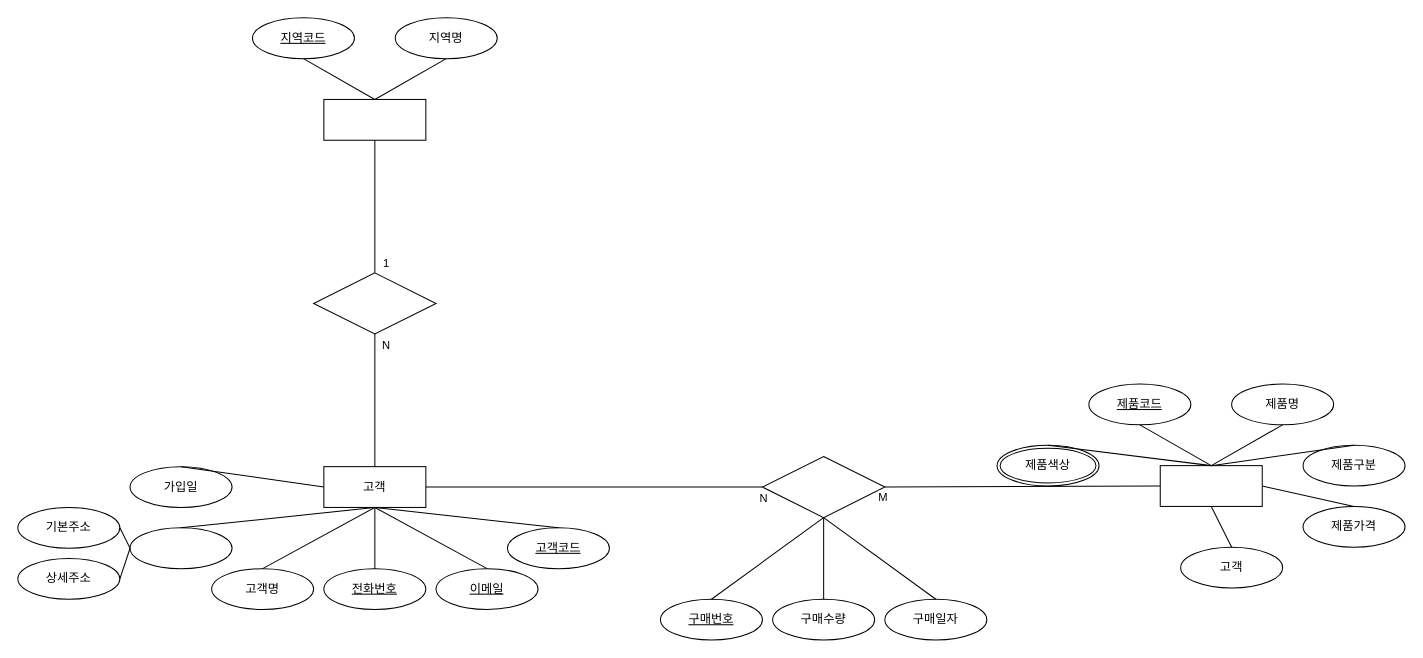
Some shapes in this 1423 by 658 pixel diagram are drawn without their labels. Each missing label, with the centre of its shape:
관리: the point at 374,303
구매: the point at 823,486
제품: the point at 1210,485
주소: the point at 180,548
지역: the point at 374,119
